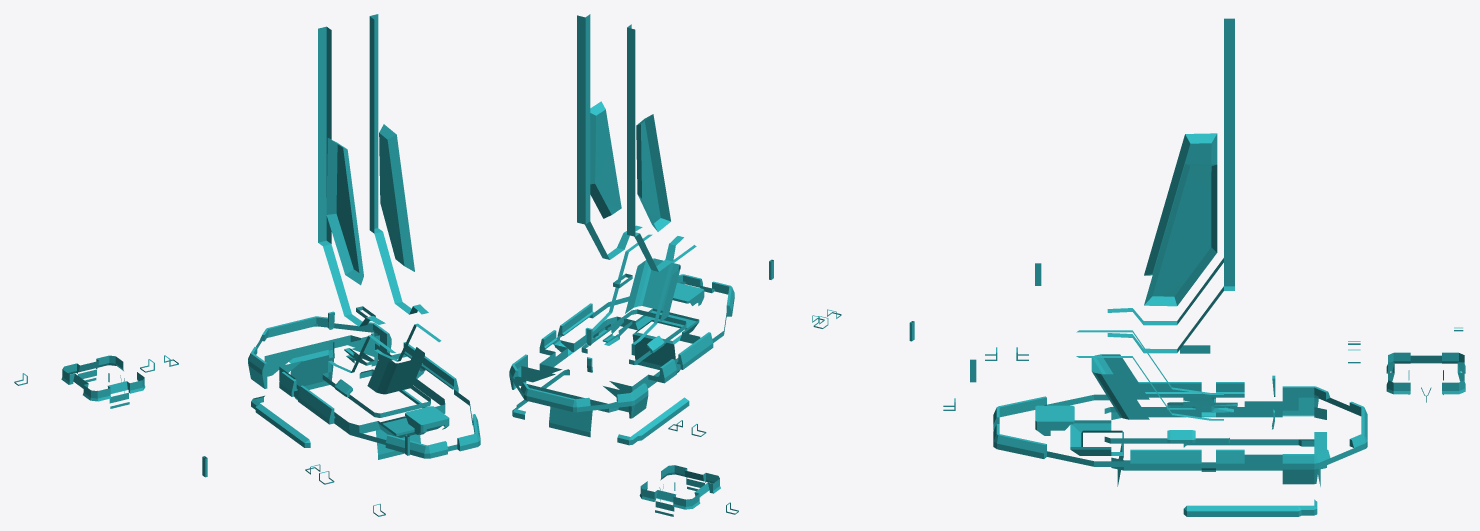
Rendered from cluster_8.fbx.
3 renders of one model, left to right at view 1: azimuth 30°, elevation 25°; view 2: azimuth 150°, elevation 25°; view 3: azimuth 270°, elevation 25°, orthographic. The views are drawn at different scales.
Parts seen in each view (by area): view 1: cluster_8; view 2: cluster_8; view 3: cluster_8.
Boxes of the visible parts, <box> form: cluster_8: <box>14,14,480,516</box>; cluster_8: <box>509,14,914,516</box>; cluster_8: <box>943,18,1465,516</box>.
Size of the model in its own units: 249217 by 316258 by 332341.
